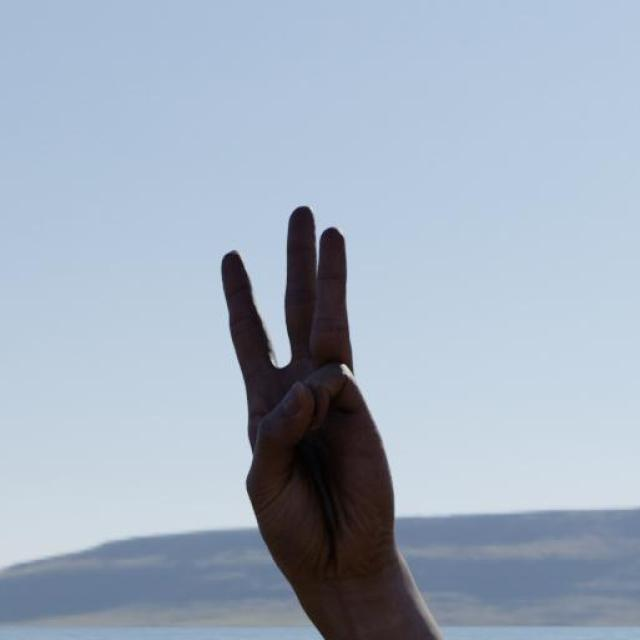W: (214, 201, 420, 591)
